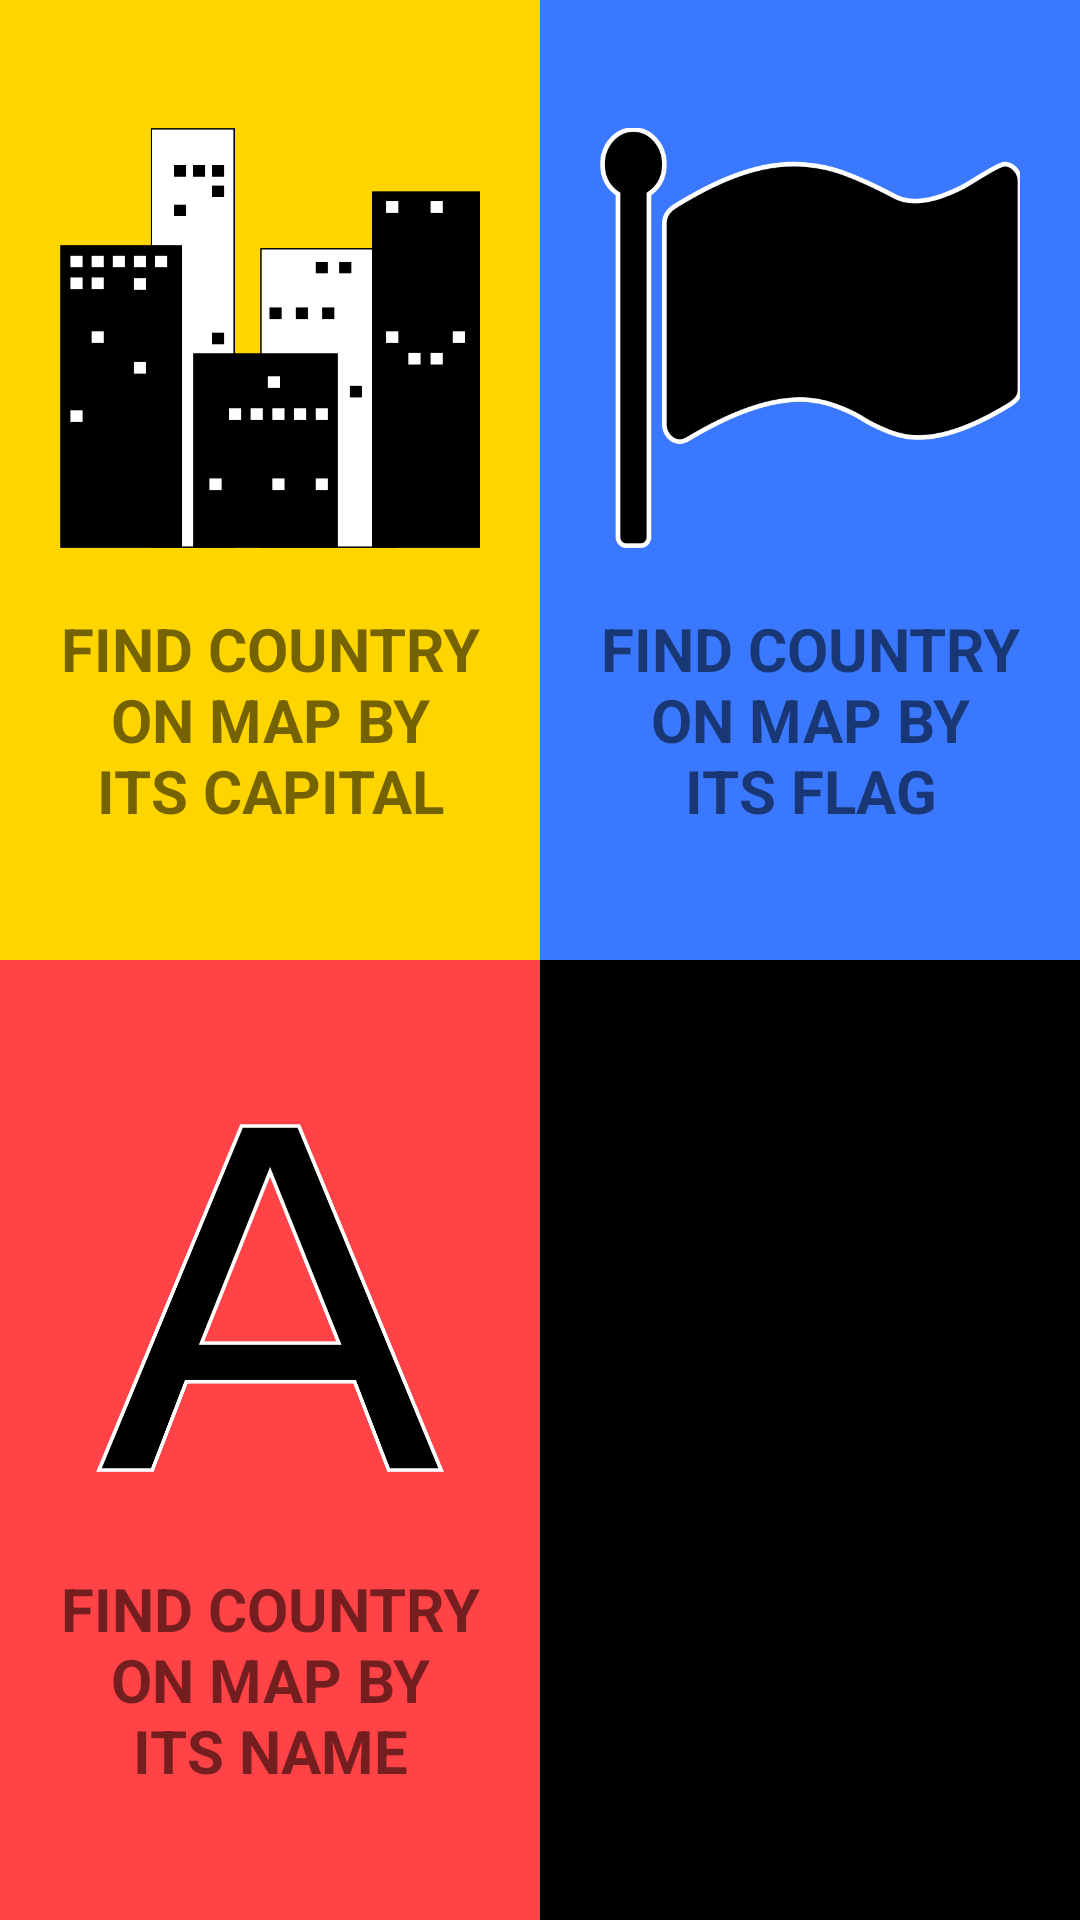

Point at icon controls on the screen. Image size 1080*1920, points as (x=x, y=y).
text: (x=270, y=1298)
